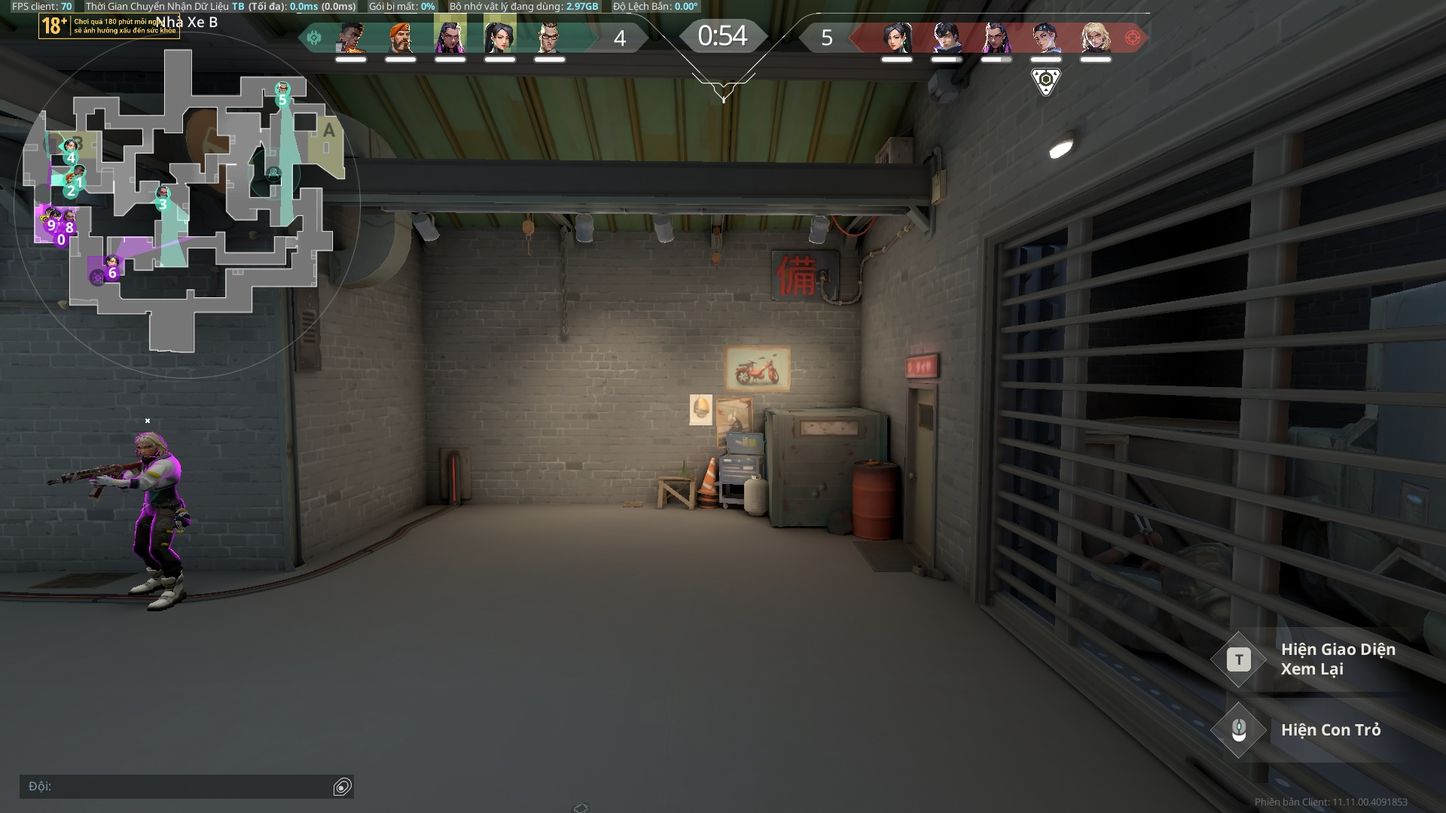body: (137, 455, 185, 505)
head: (133, 434, 164, 456)
